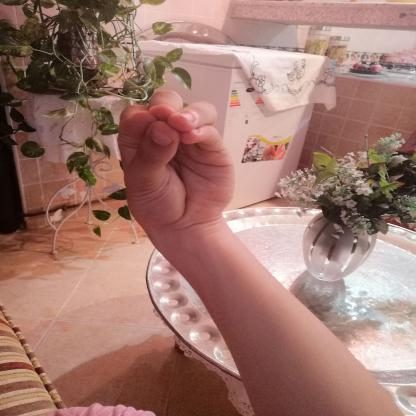HA: (95, 78, 256, 245)
